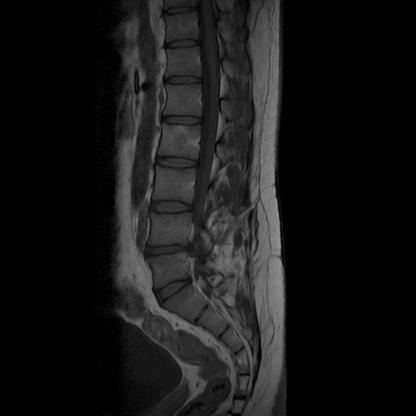Disc Bulgerotation: (142, 240, 189, 262)
